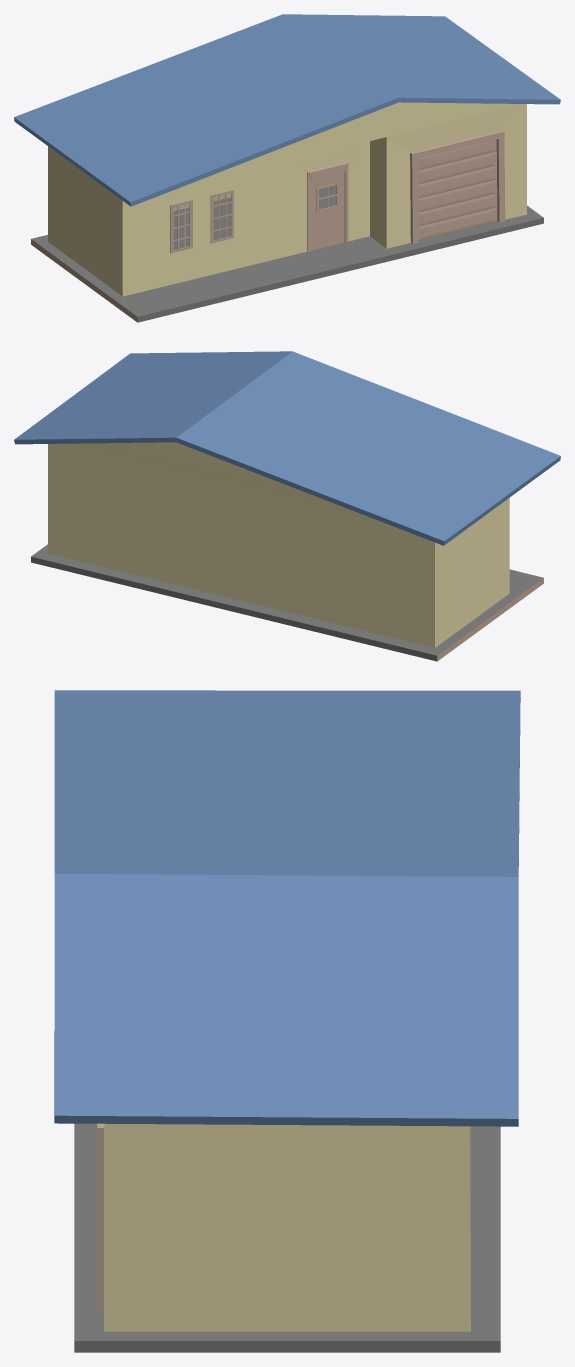
The model's file is residential1.fbx.
3 views of the same model, one above another, from view 1: azimuth 30°, elevation 25°; view 2: azimuth 150°, elevation 25°; view 3: azimuth 270°, elevation 25° (orthographic). The views are drawn at different scales.
Visible parts, largest first — view 1: Cube; view 2: Cube; view 3: Cube.
Part boxes in pixels (x1,y1,x2,y2): Cube: (14,14,560,322); Cube: (14,351,560,661); Cube: (54,690,520,1352).
Bounding box in the file's own units: 2015 × 742 × 944.
